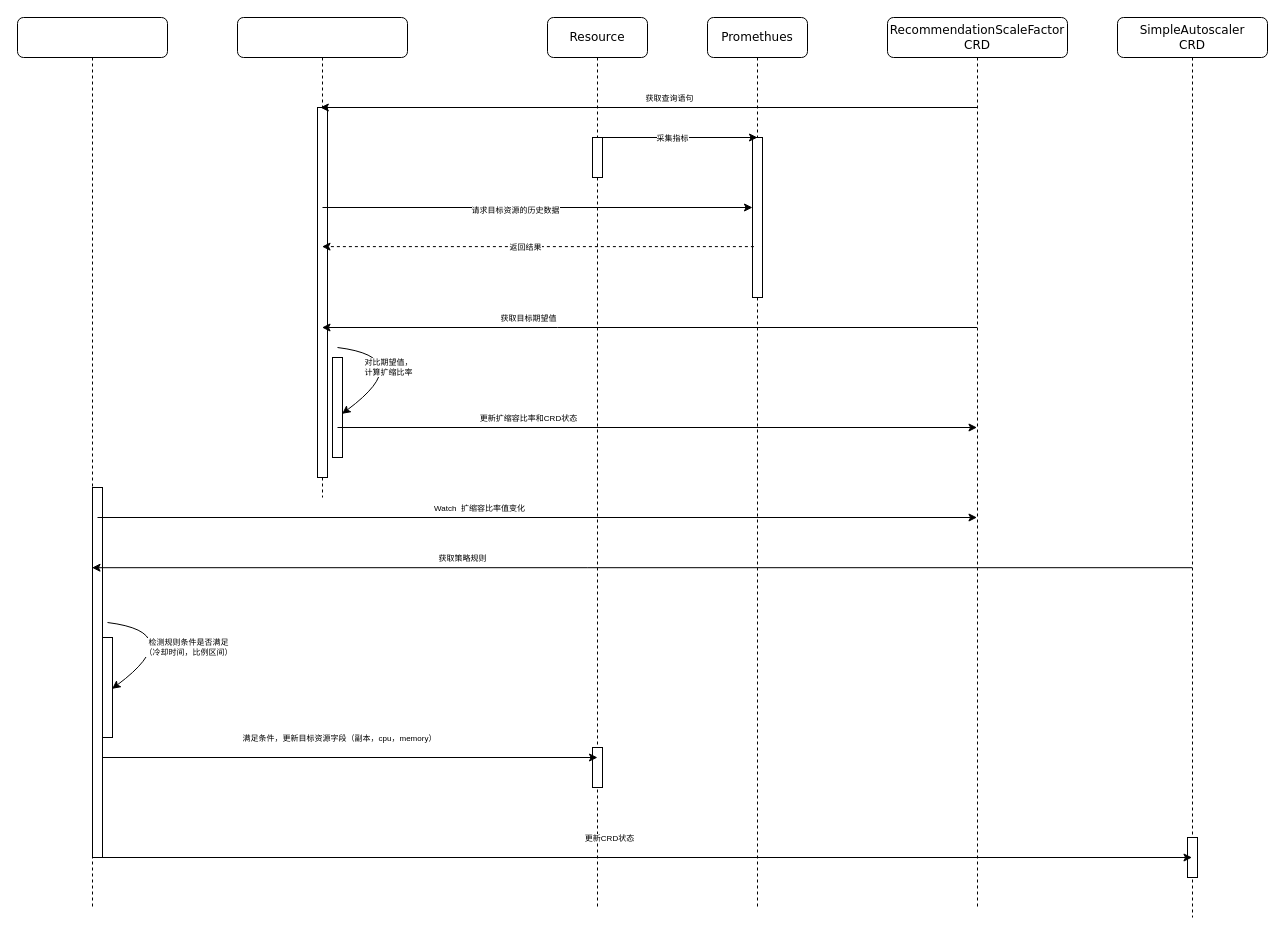
Image size: 1285x935. Some labels were removed from this diagram. Here are the shapes that lost their labels. From the top down, the box of each, then its label:
(236, 16, 408, 498): RecommendationScaleFactor Controller
(16, 16, 168, 908): SimpleAutoscaler Controller
